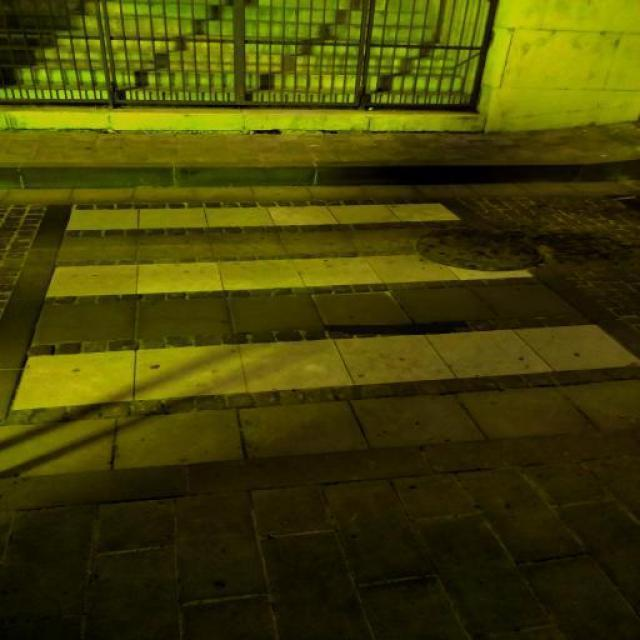crosswalk: (0, 197, 640, 475)
